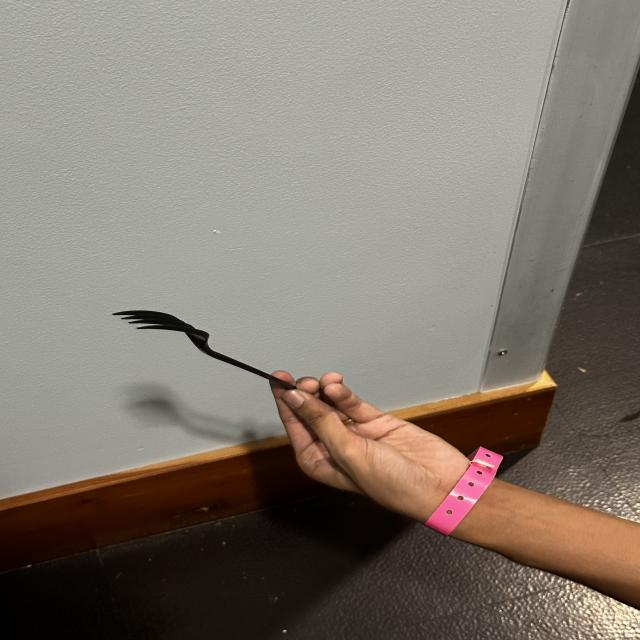fork: (76, 276, 357, 427)
